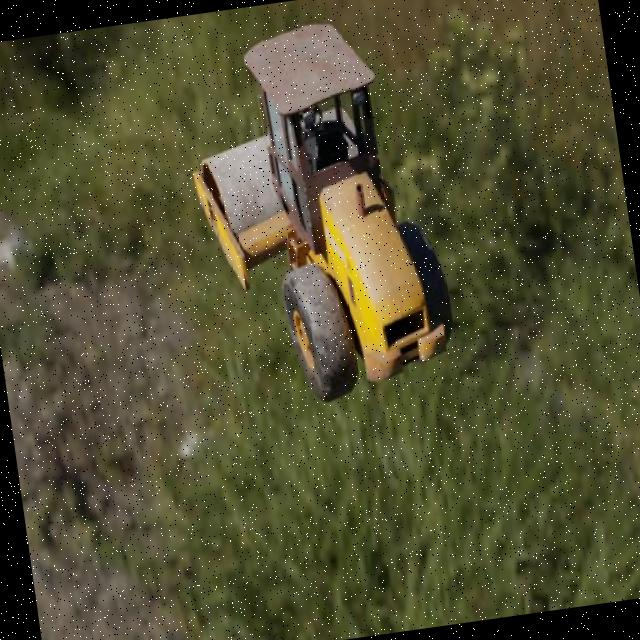Roller: (175, 9, 462, 417)
